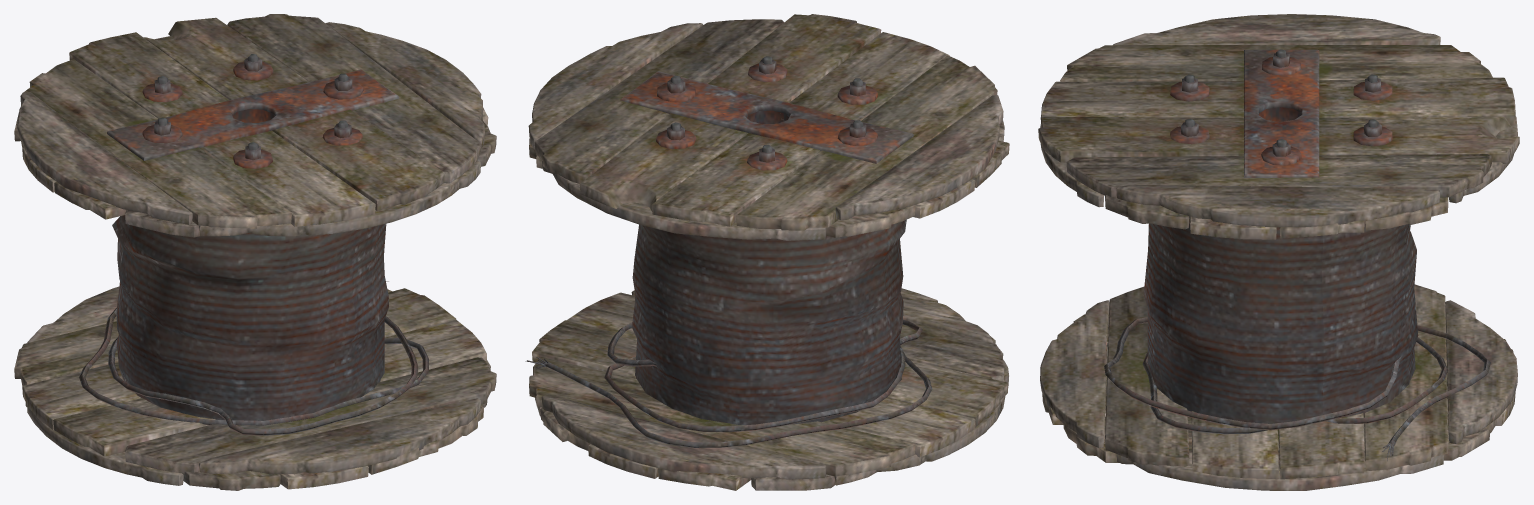
Rendered from SM_CableReel_01.fbx.
The picture shows the model from 3 angles, left to right: view 1: azimuth 30°, elevation 25°; view 2: azimuth 150°, elevation 25°; view 3: azimuth 270°, elevation 25°; orthographic projection.
Visible parts, largest first — view 1: SM_CableReel_01.mo; view 2: SM_CableReel_01.mo; view 3: SM_CableReel_01.mo.
Boxes of the visible parts, x1,y1,x2,y2 form: SM_CableReel_01.mo: (14, 14, 496, 490); SM_CableReel_01.mo: (525, 14, 1009, 490); SM_CableReel_01.mo: (1038, 14, 1519, 490).
Size of the model in its own units: 162 by 111 by 163.
